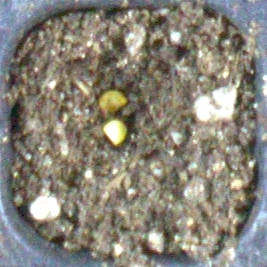chilli seed: (98, 89, 127, 113), (103, 119, 127, 145)
